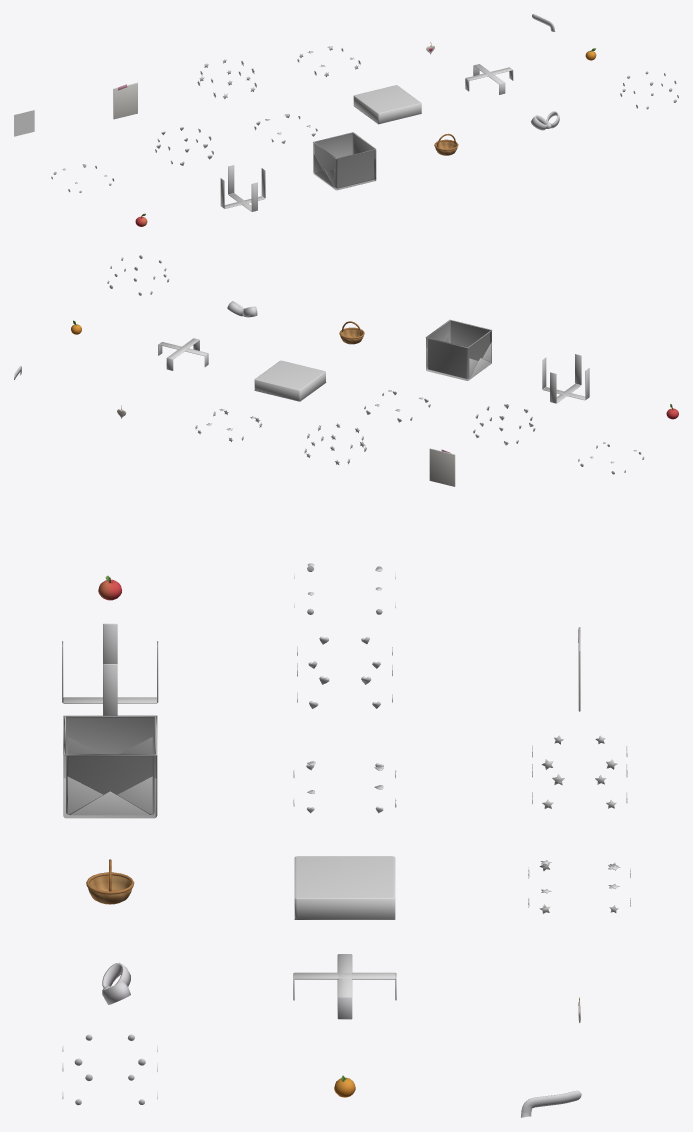
File: prp_gift_box_lite.glb
3 renders of one model, top to bottom at view 1: azimuth 30°, elevation 25°; view 2: azimuth 150°, elevation 25°; view 3: azimuth 270°, elevation 25°, orthographic. The views are drawn at different scales.
Visible parts, largest first — view 1: INST_prp_gift_box_lite_base, INST_prp_gift_box_lite_lid, INST_prp_gift_box_lite_band, INST_prp_gift_box_lite_polaroid, INST_prp_gift_box_lite_lidband, INST_prp_gift_box_lite_photo, INST_prp_gift_box_lite_basket, INST_prp_gift_box_lite_bow; view 2: INST_prp_gift_box_lite_base, INST_prp_gift_box_lite_lid, INST_prp_gift_box_lite_band, INST_prp_gift_box_lite_polaroid, INST_prp_gift_box_lite_lidband, INST_prp_gift_box_lite_basket; view 3: INST_prp_gift_box_lite_base, INST_prp_gift_box_lite_lid, INST_prp_gift_box_lite_band, INST_prp_gift_box_lite_lidband, INST_prp_gift_box_lite_basket, INST_prp_gift_box_lite_bow.
Boxes of the visible parts, bbox=[...] form: INST_prp_gift_box_lite_base: bbox=[313, 132, 376, 190]; INST_prp_gift_box_lite_lid: bbox=[353, 85, 421, 124]; INST_prp_gift_box_lite_band: bbox=[220, 165, 265, 211]; INST_prp_gift_box_lite_polaroid: bbox=[113, 82, 137, 119]; INST_prp_gift_box_lite_lidband: bbox=[465, 64, 513, 94]; INST_prp_gift_box_lite_photo: bbox=[14, 110, 34, 136]; INST_prp_gift_box_lite_basket: bbox=[434, 133, 458, 155]; INST_prp_gift_box_lite_bow: bbox=[530, 111, 559, 130]; INST_prp_gift_box_lite_base: bbox=[425, 319, 492, 380]; INST_prp_gift_box_lite_lid: bbox=[254, 360, 326, 401]; INST_prp_gift_box_lite_band: bbox=[542, 354, 589, 403]; INST_prp_gift_box_lite_polaroid: bbox=[429, 448, 455, 486]; INST_prp_gift_box_lite_lidband: bbox=[158, 338, 208, 370]; INST_prp_gift_box_lite_basket: bbox=[339, 321, 364, 344]; INST_prp_gift_box_lite_base: bbox=[63, 715, 157, 818]; INST_prp_gift_box_lite_lid: bbox=[294, 856, 395, 919]; INST_prp_gift_box_lite_band: bbox=[62, 623, 158, 715]; INST_prp_gift_box_lite_lidband: bbox=[293, 954, 396, 1019]; INST_prp_gift_box_lite_basket: bbox=[86, 859, 134, 904]; INST_prp_gift_box_lite_bow: bbox=[102, 962, 130, 1004].
Bounding box in the file's own units: 5.42 × 0.4257 × 2.42.
